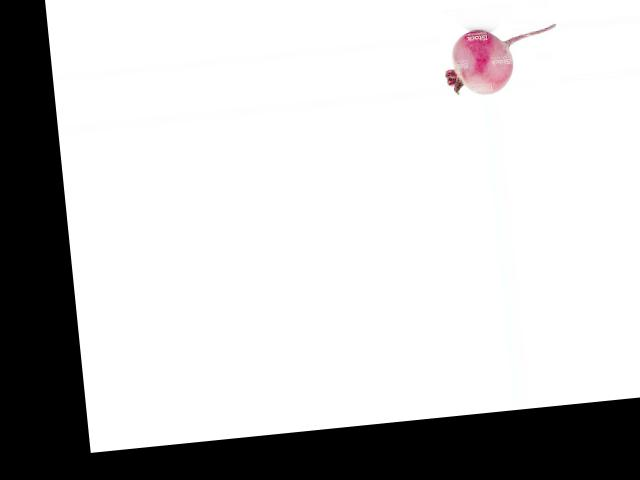beet: (440, 21, 561, 97)
